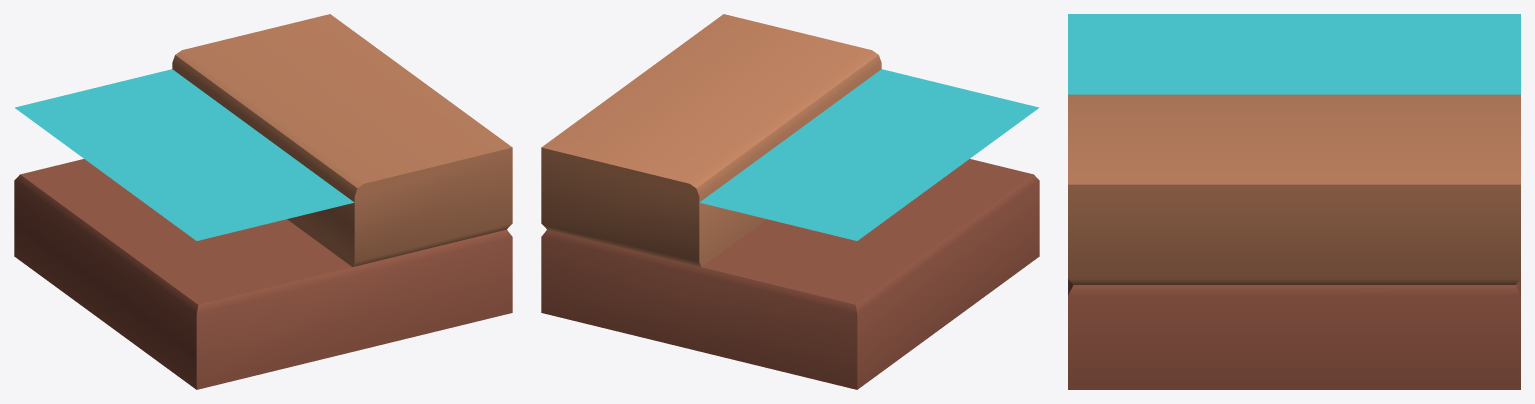
File: kaykit-square-rock-waterstraight-nosides.glb
3 views of the same model, side by side, from view 1: azimuth 30°, elevation 25°; view 2: azimuth 150°, elevation 25°; view 3: azimuth 270°, elevation 25° (orthographic). The views are drawn at different scales.
Visible parts, largest first — view 1: square_rock_waterStraight_noSides; view 2: square_rock_waterStraight_noSides; view 3: square_rock_waterStraight_noSides.
Boxes of the visible parts, box(x1,y1,x2,y2) form: square_rock_waterStraight_noSides: box(14, 14, 512, 389); square_rock_waterStraight_noSides: box(541, 14, 1039, 389); square_rock_waterStraight_noSides: box(1068, 14, 1520, 389).
Size of the model in its own units: 2 by 1 by 2.
